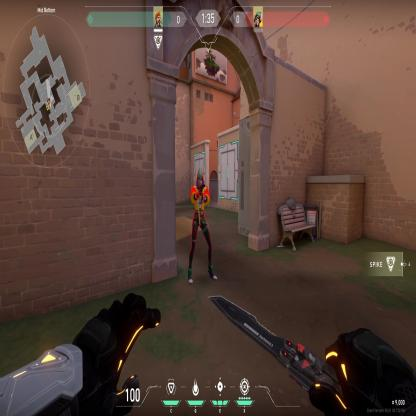enemy: (186, 164, 219, 285)
